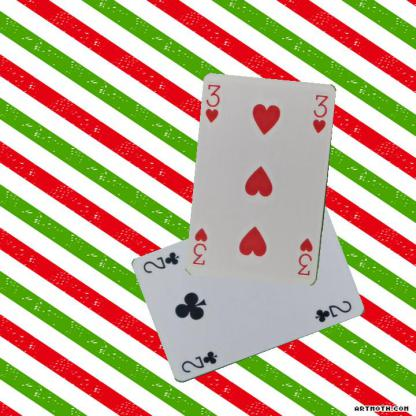2c: (178, 348, 219, 374)
3h: (295, 235, 314, 277), (203, 82, 222, 124)
